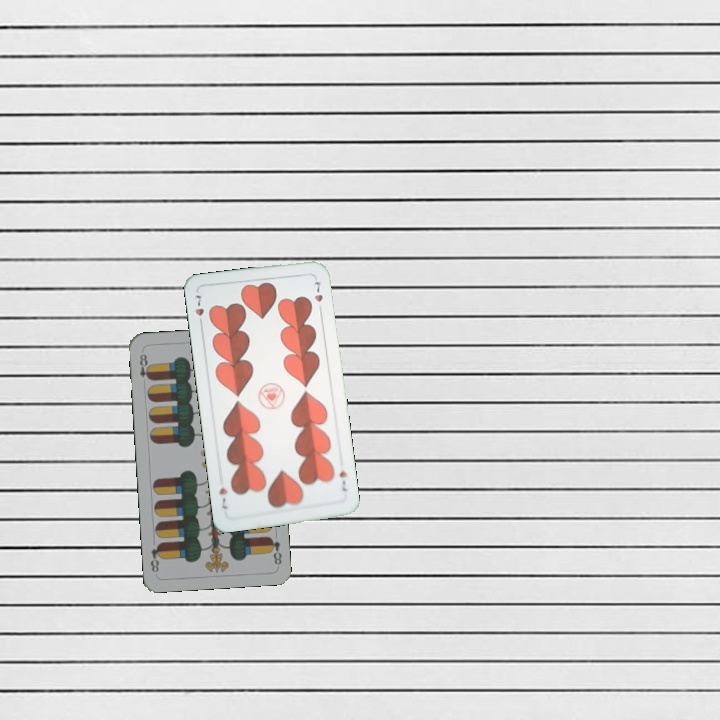E8: (265, 532, 284, 567), (136, 349, 153, 382)
H7: (191, 291, 206, 329), (335, 467, 349, 494)
